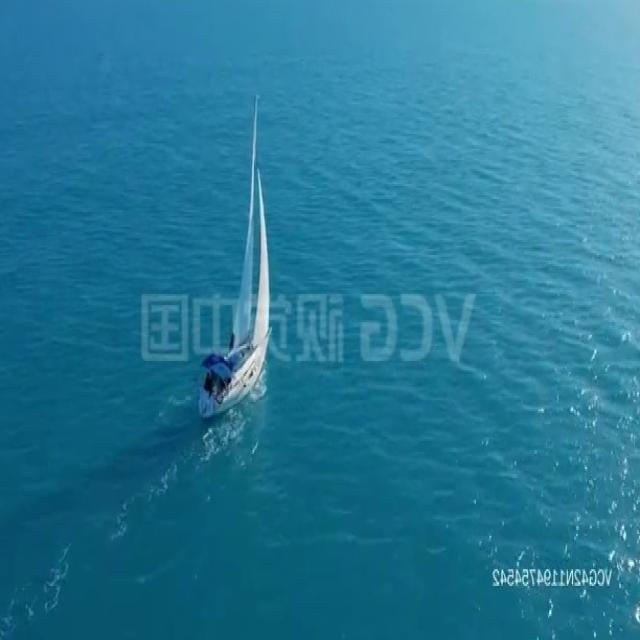sailboat: (198, 90, 271, 410)
